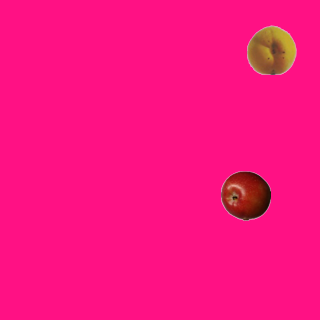Apple Braeburn: (220, 170, 270, 220)
Peach 2: (246, 24, 296, 74)
